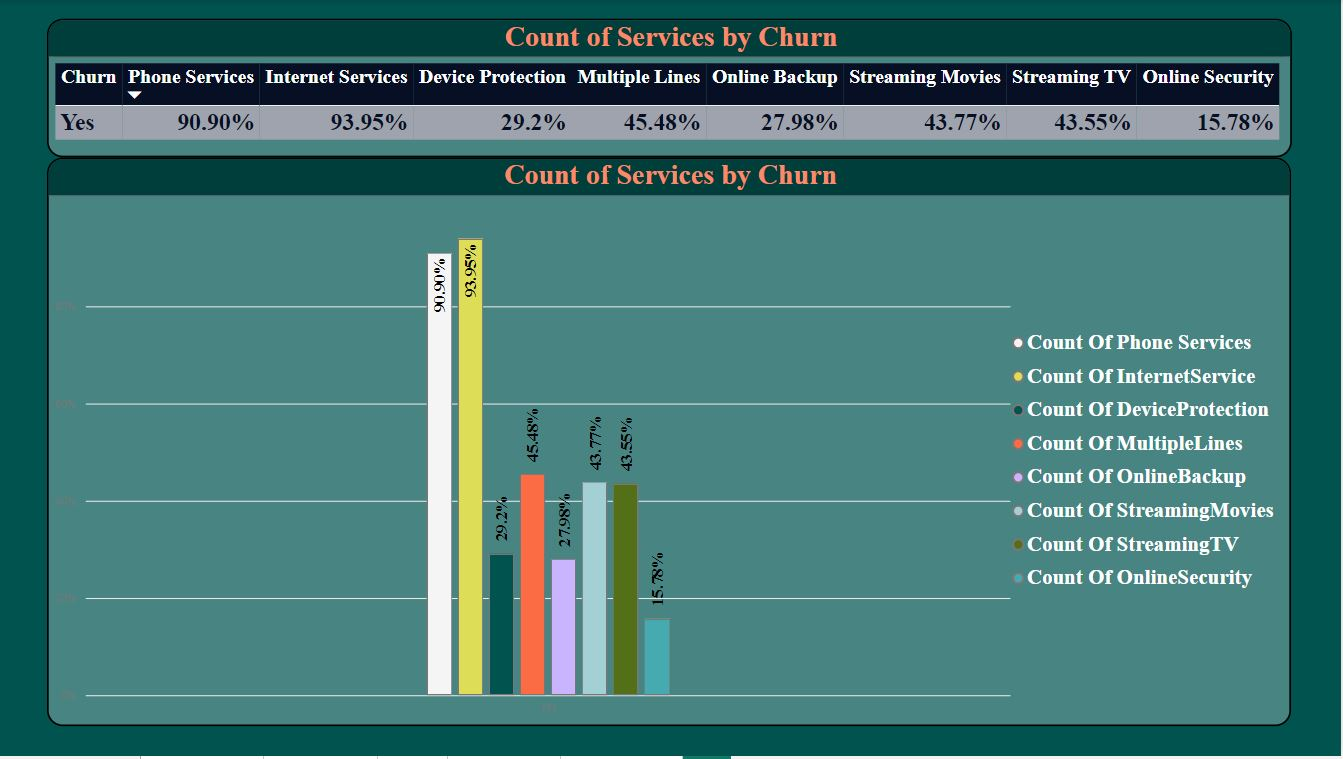

The page's visual inventory and layout, read from the dashboard file:
{"tool":"powerbi","page":{"name":"Q5","canvas":[1280,720],"ordinal":2},"visuals":[{"type":"clusteredColumnChart","title":"Count of Services by Churn","fields":{"Category":["churn analysis dataset.Churn"],"Y":["churn analysis dataset.Count Of Phone Services","churn analysis dataset.Count Of InternetService","churn analysis dataset.Count Of DeviceProtection","churn analysis dataset.Count Of MultipleLines","churn analysis dataset.Count Of OnlineBackup","churn analysis dataset.Count Of StreamingMovies","churn analysis dataset.Count Of StreamingTV","churn analysis dataset.Count Of OnlineSecurity"]},"box":[47.8,149.9,1184.7,541.3],"z":0},{"type":"tableEx","title":"Count of Services by Churn","fields":{"Values":["churn analysis dataset.Churn","churn analysis dataset.Count Of Phone Services","churn analysis dataset.Count Of InternetService","churn analysis dataset.Count Of DeviceProtection","churn analysis dataset.Count Of MultipleLines","churn analysis dataset.Count Of OnlineBackup","churn analysis dataset.Count Of StreamingMovies","churn analysis dataset.Count Of StreamingTV","churn analysis dataset.Count Of OnlineSecurity"]},"box":[47.6,17.9,1185.7,132.1],"z":1000}]}

Visuals, with their boxes in screenshot pixels (x1, y1, x2, y2), scaled from the page's 1280x720 canvas onto the 1343x759 screenshot:
"Count of Services by Churn" clusteredColumnChart: detection(50, 158, 1293, 729)
"Count of Services by Churn" tableEx: detection(50, 19, 1294, 158)
